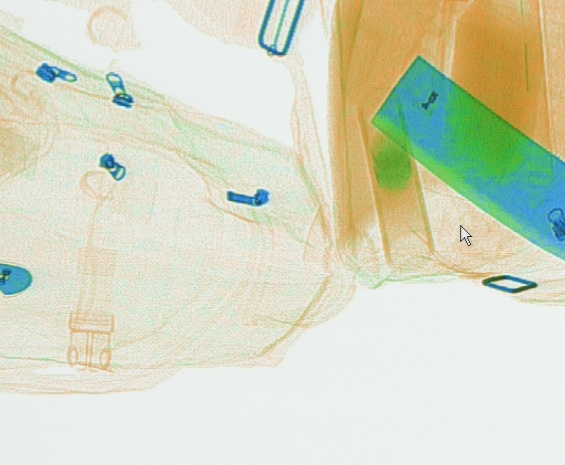firecrackers: (357, 82, 435, 270)
knife: (367, 53, 563, 261)
